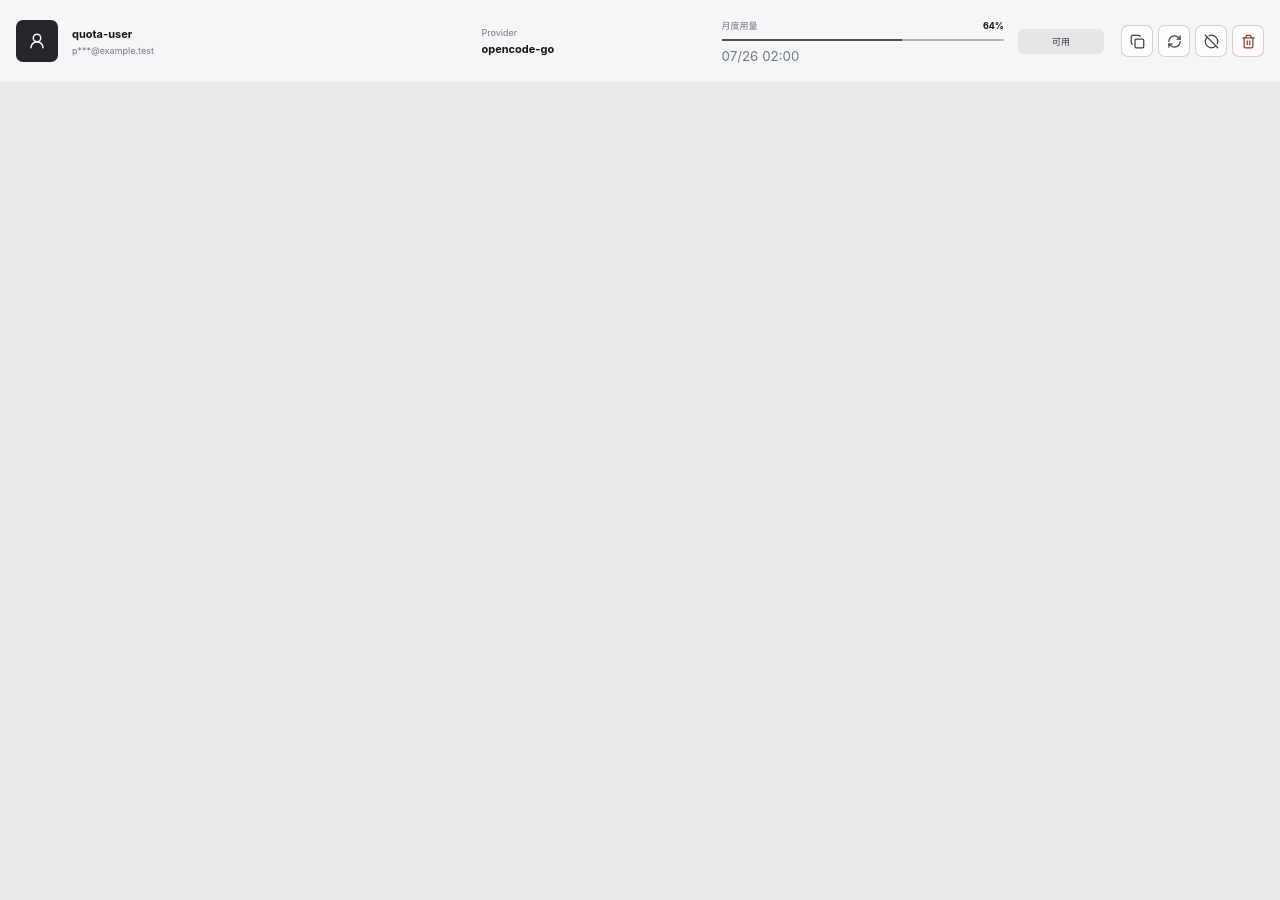
Test: AccountRow › refreshes quota and renders the safe result message
The image size is (1280, 900).
Step 1. Click the button named "刷新 quota-user 月度用量" → point(1174, 41), box x1=1158 y1=25 x2=1190 y2=57
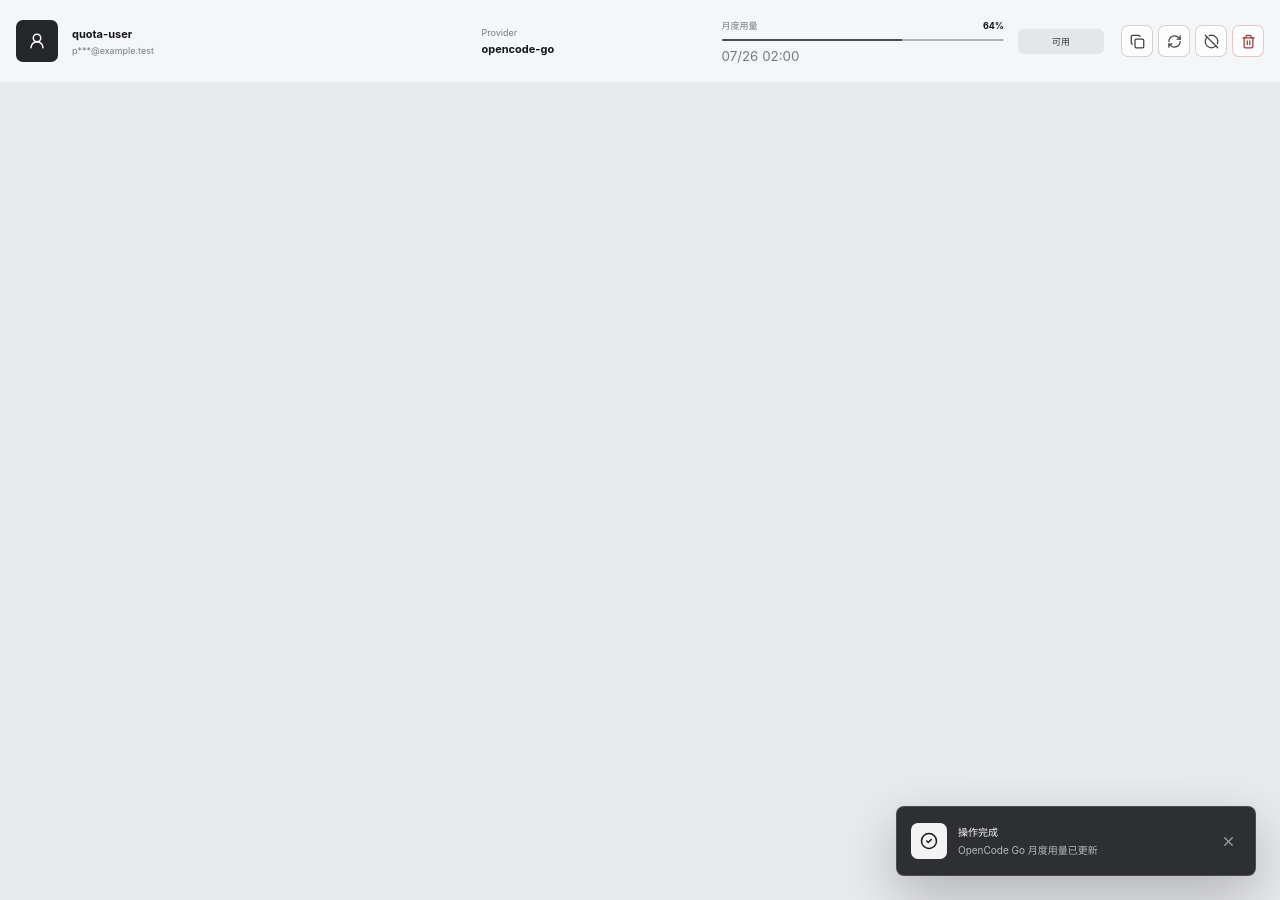
Result: the message shows "OpenCode Go 月度用量已更新" at x1=958 y1=844 x2=1098 y2=856
